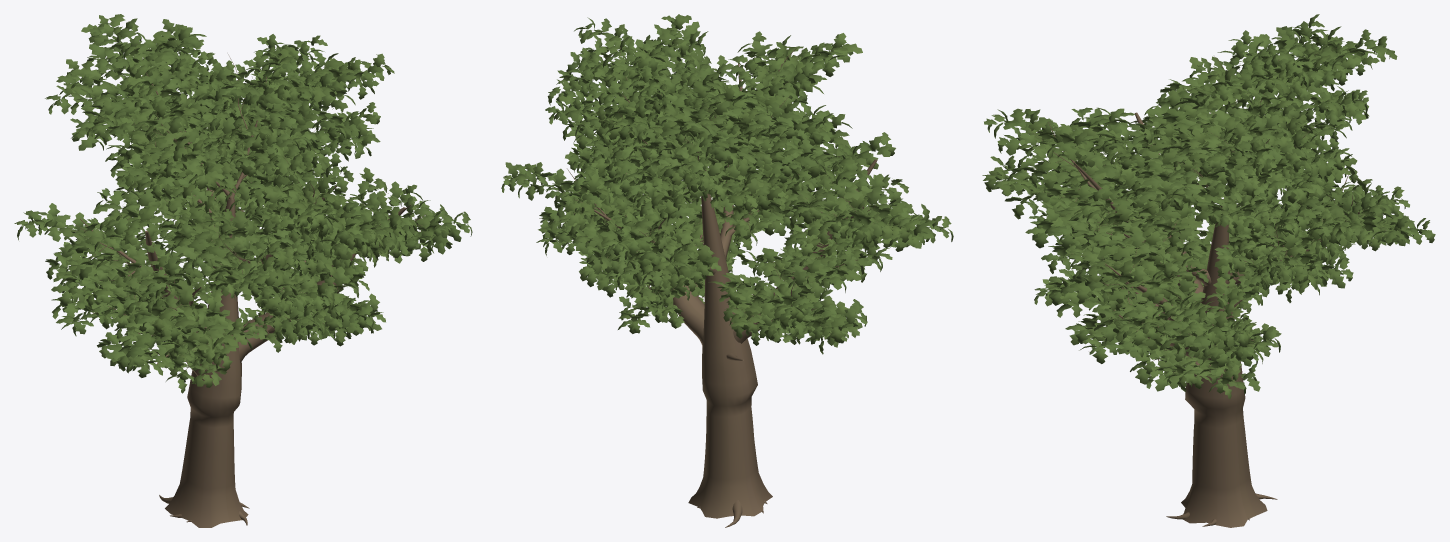
The model's file is corealm_oak_2.glb.
The picture shows the model from 3 angles, left to right: view 1: azimuth 30°, elevation 25°; view 2: azimuth 150°, elevation 25°; view 3: azimuth 270°, elevation 25°; orthographic projection. The views are drawn at different scales.
Visible parts, largest first — view 1: corealm_oak_2; view 2: corealm_oak_2; view 3: corealm_oak_2.
Boxes of the visible parts, x1,y1,x2,y2 form: corealm_oak_2: (14,14,472,527); corealm_oak_2: (501,14,953,527); corealm_oak_2: (982,14,1435,527).
Bounding box in the file's own units: 7.47 × 8.56 × 7.4.
